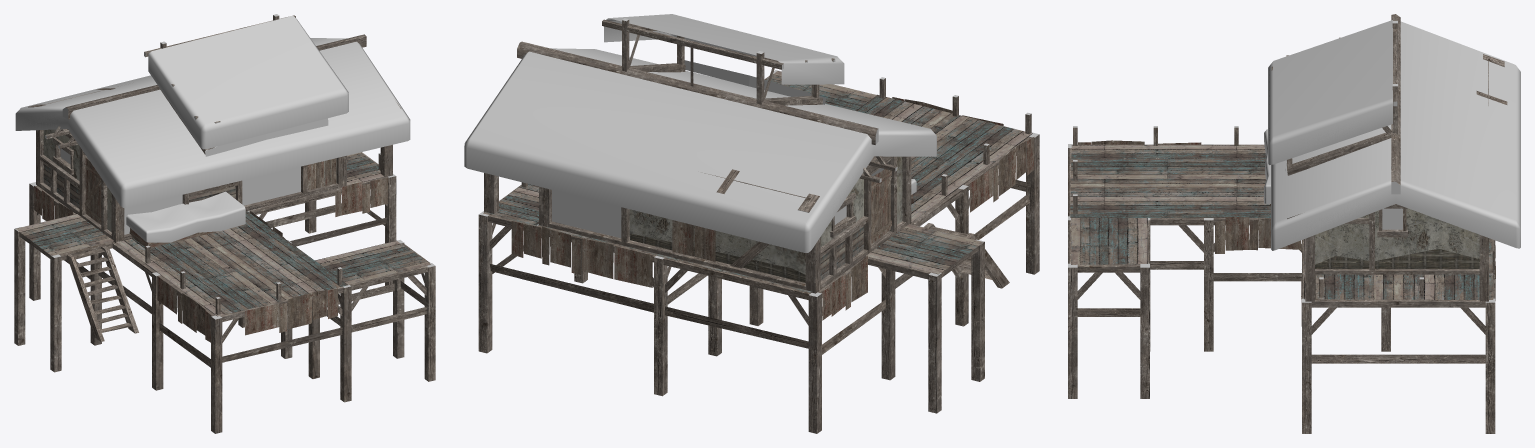
The model's file is House6_LOD2.fbx.
3 views of the same model, side by side, from view 1: azimuth 30°, elevation 25°; view 2: azimuth 150°, elevation 25°; view 3: azimuth 270°, elevation 25° (orthographic). The views are drawn at different scales.
Visible parts, largest first — view 1: Base, Stairs, Doors; view 2: Base, Doors, Stairs; view 3: Base.
Boxes of the visible parts, x1=… form: Base: x1=14, y1=14, x2=435, y2=433; Stairs: x1=66, y1=245, x2=138, y2=341; Doors: x1=84, y1=158, x2=101, y2=224; Base: x1=464, y1=14, x2=1039, y2=433; Doors: x1=871, y1=164, x2=891, y2=243; Stairs: x1=924, y1=223, x2=1009, y2=288; Base: x1=1068, y1=14, x2=1520, y2=433.
Bounding box in the file's own units: 14.7 × 10.61 × 14.32.
